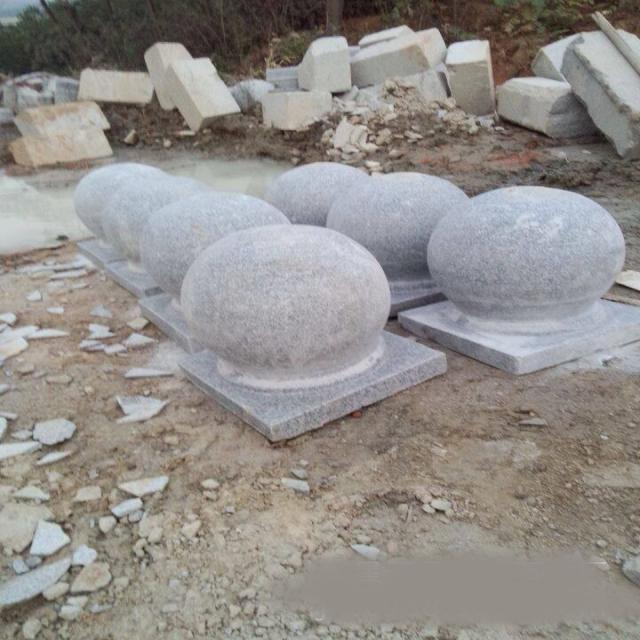spherical_roadblock: (182, 224, 394, 388), (422, 179, 631, 323)
